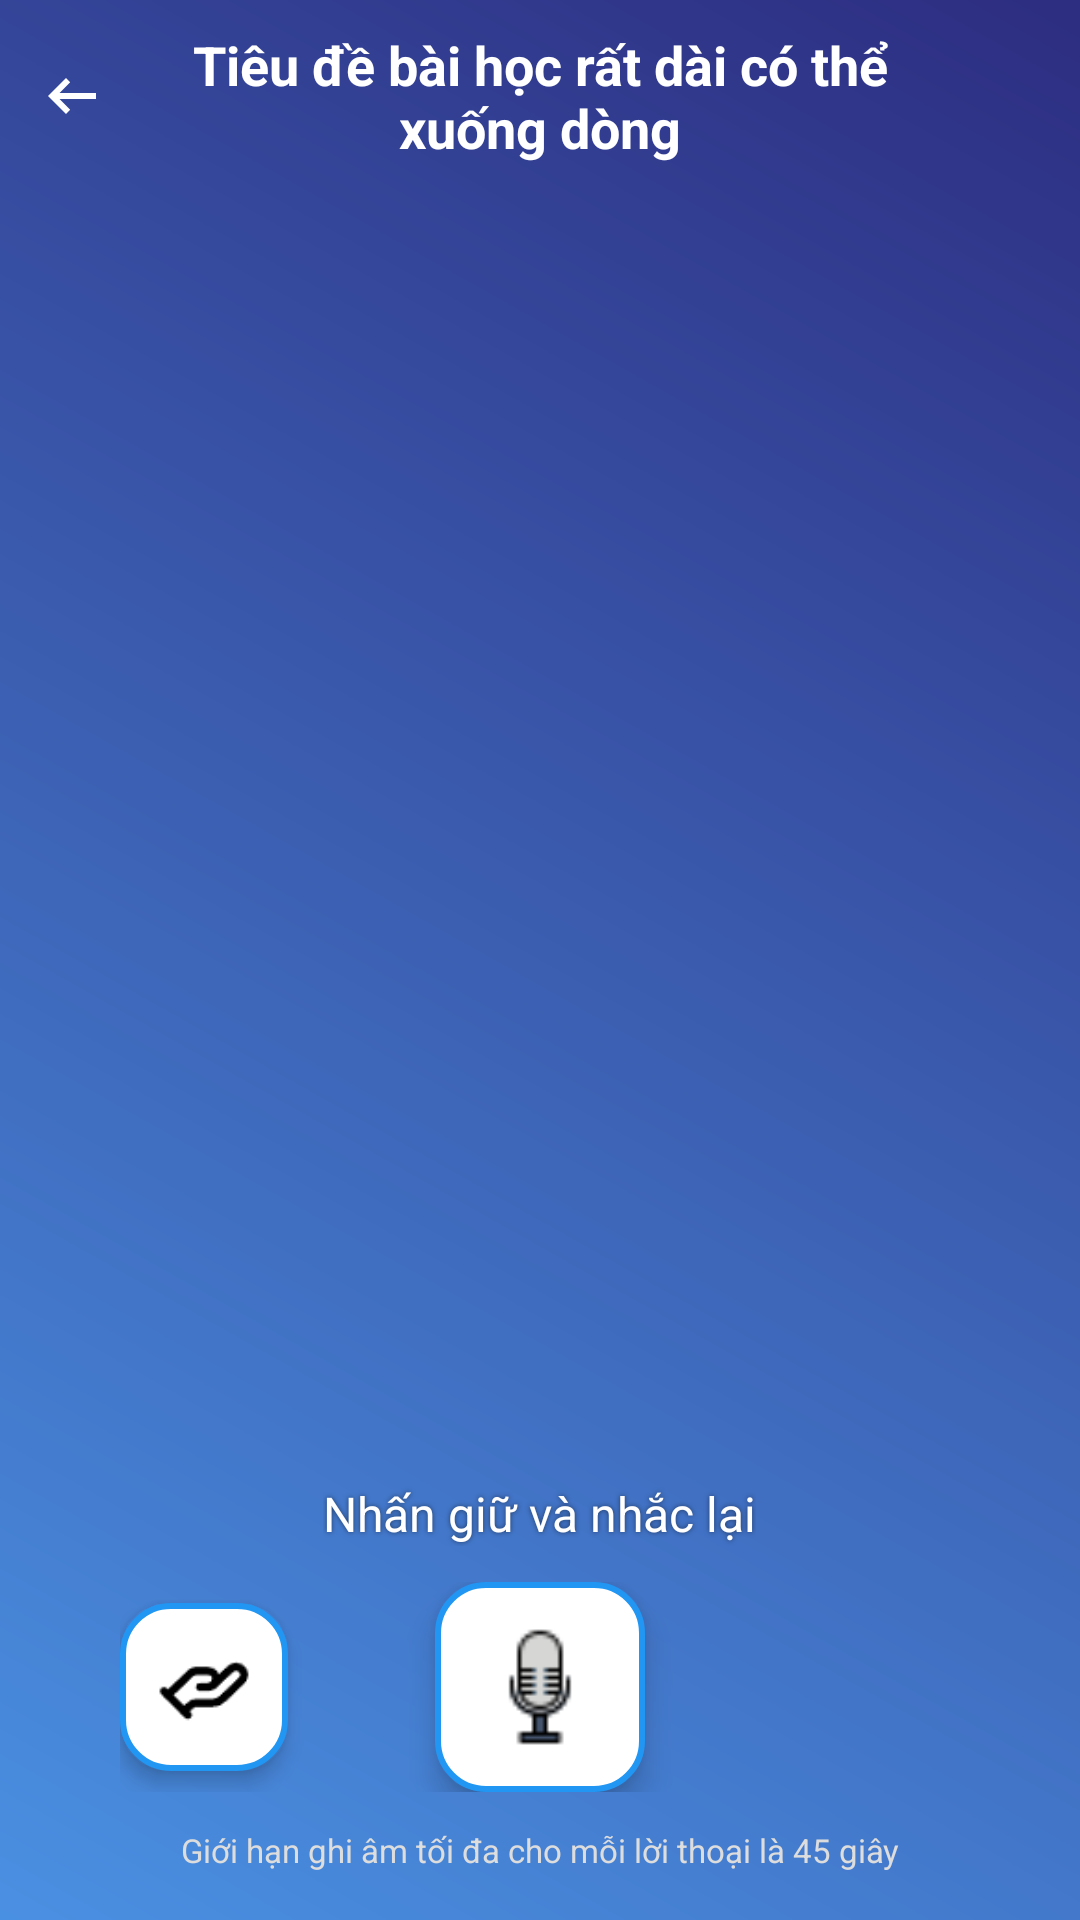

Named icons in this screenshot (1080*1920) and their centers, (x,y):
arrow left: (72,96)
hand helping: (204,1687)
mic: (540,1687)
